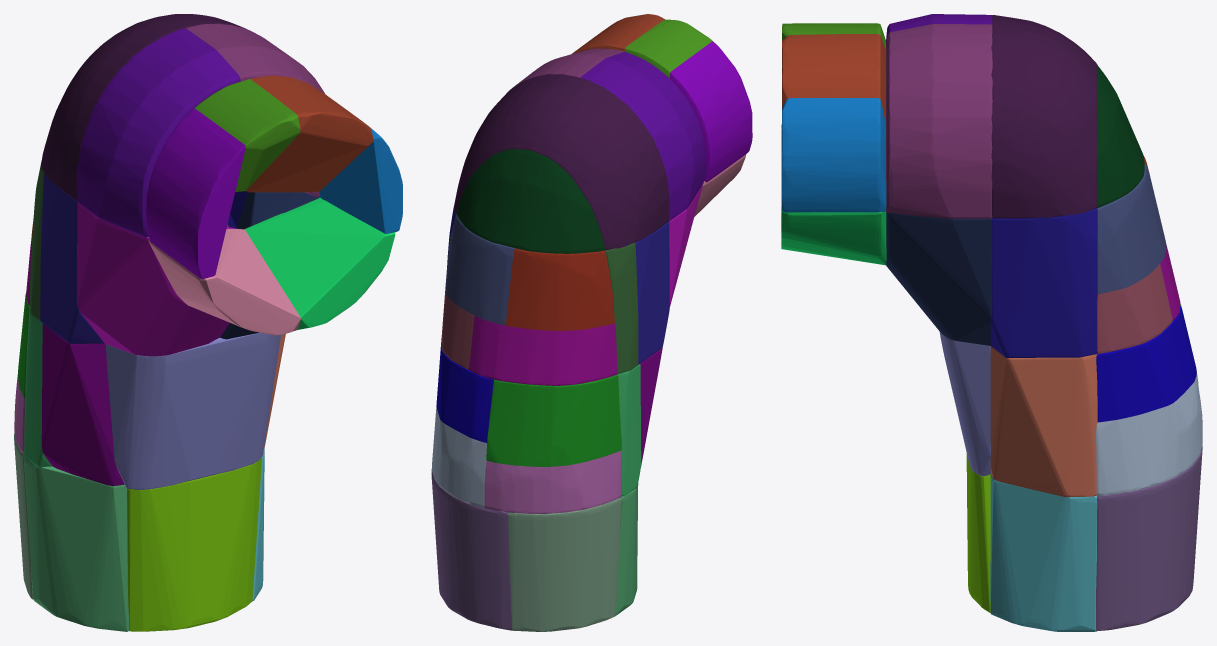
File: arm-L2_split.obj
The picture shows the model from 3 angles, left to right: view 1: azimuth 30°, elevation 25°; view 2: azimuth 150°, elevation 25°; view 3: azimuth 270°, elevation 25°; orthographic projection. The views are drawn at different scales.
Visible parts, largest first — view 1: geometry_12, geometry_4, geometry_27, geometry_3, geometry_22, geometry_23, geometry_32, geometry_11, geometry_31, geometry_24, geometry_26, geometry_18 (+10 smaller); view 2: geometry_26, geometry_0, geometry_25, geometry_8, geometry_1, geometry_27, geometry_14, geometry_15, geometry_7, geometry_32, geometry_16, geometry_18 (+12 smaller); view 3: geometry_28, geometry_26, geometry_20, geometry_2, geometry_9, geometry_1, geometry_29, geometry_21, geometry_6, geometry_5, geometry_31, geometry_16 (+8 smaller).
Part boxes in pixels (bbox=[...]): geometry_12: bbox=[106, 332, 280, 489]; geometry_4: bbox=[127, 457, 261, 631]; geometry_27: bbox=[77, 28, 240, 237]; geometry_3: bbox=[23, 456, 128, 631]; geometry_22: bbox=[77, 203, 237, 356]; geometry_23: bbox=[244, 198, 395, 329]; geometry_32: bbox=[146, 108, 245, 279]; geometry_11: bbox=[41, 324, 124, 486]; geometry_31: bbox=[246, 75, 373, 192]; geometry_24: bbox=[148, 229, 300, 335]; geometry_26: bbox=[41, 14, 255, 201]; geometry_18: bbox=[40, 173, 104, 343]; geometry_26: bbox=[454, 74, 669, 249]; geometry_0: bbox=[508, 496, 621, 631]; geometry_25: bbox=[456, 149, 604, 253]; geometry_8: bbox=[486, 375, 621, 466]; geometry_1: bbox=[431, 469, 512, 630]; geometry_27: bbox=[580, 51, 705, 220]; geometry_14: bbox=[469, 316, 617, 385]; geometry_15: bbox=[505, 248, 614, 330]; geometry_7: bbox=[484, 450, 621, 513]; geometry_32: bbox=[669, 41, 752, 182]; geometry_16: bbox=[445, 214, 514, 325]; geometry_18: bbox=[635, 221, 669, 364]; geometry_28: bbox=[886, 24, 992, 218]; geometry_26: bbox=[991, 15, 1097, 218]; geometry_20: bbox=[990, 208, 1097, 358]; geometry_2: bbox=[990, 474, 1097, 631]; geometry_9: bbox=[990, 346, 1097, 497]; geometry_1: bbox=[1096, 446, 1202, 630]; geometry_29: bbox=[782, 98, 886, 212]; geometry_21: bbox=[886, 212, 991, 345]; geometry_6: bbox=[1096, 373, 1202, 495]; geometry_5: bbox=[1096, 306, 1196, 422]; geometry_31: bbox=[782, 34, 885, 123]; geometry_16: bbox=[1097, 163, 1166, 294].
Bounding box in the file's own units: 0.0822 × 0.2048 × 0.1398.
